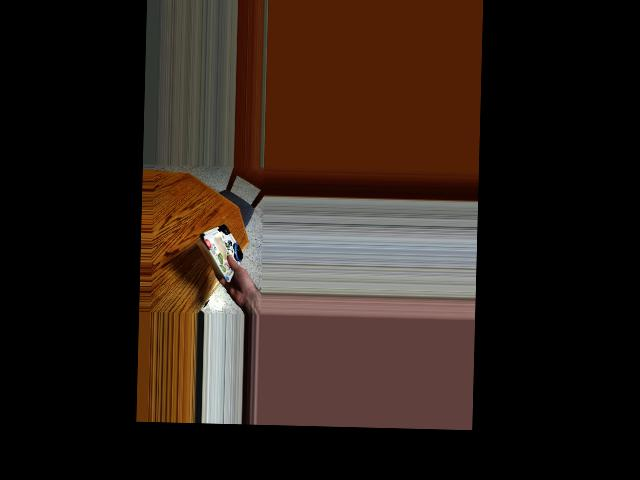cheese: (187, 219, 245, 278)
